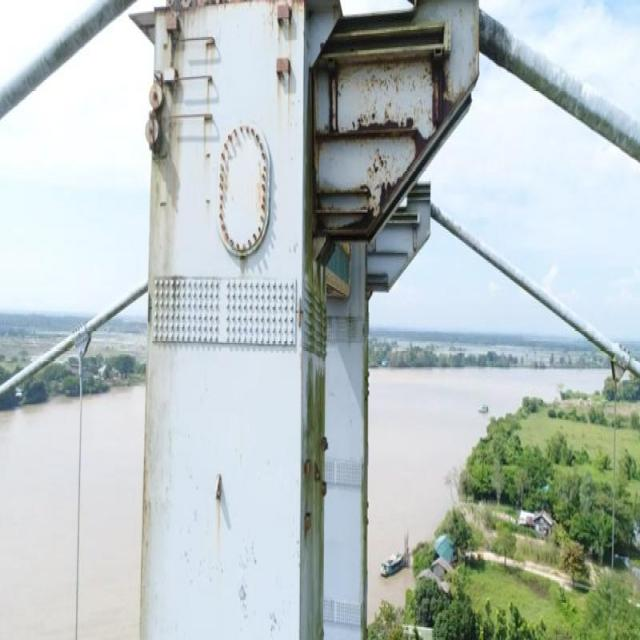corrosion: (613, 354, 627, 390)
